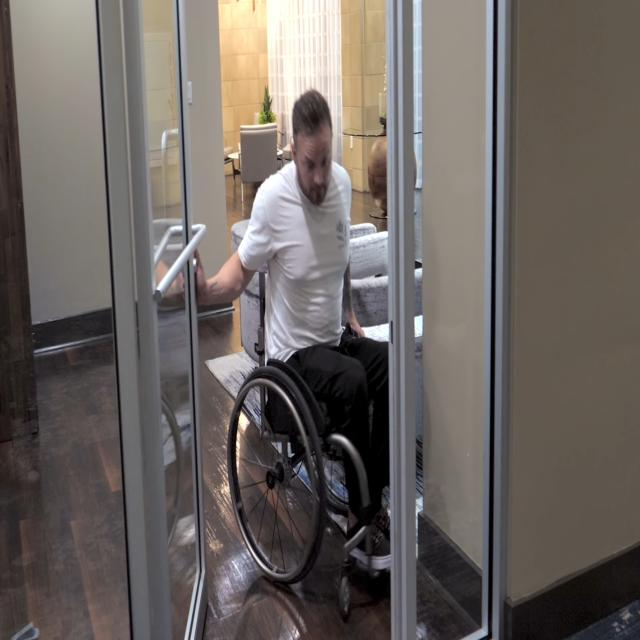wheelchairs: (226, 239, 412, 627)
